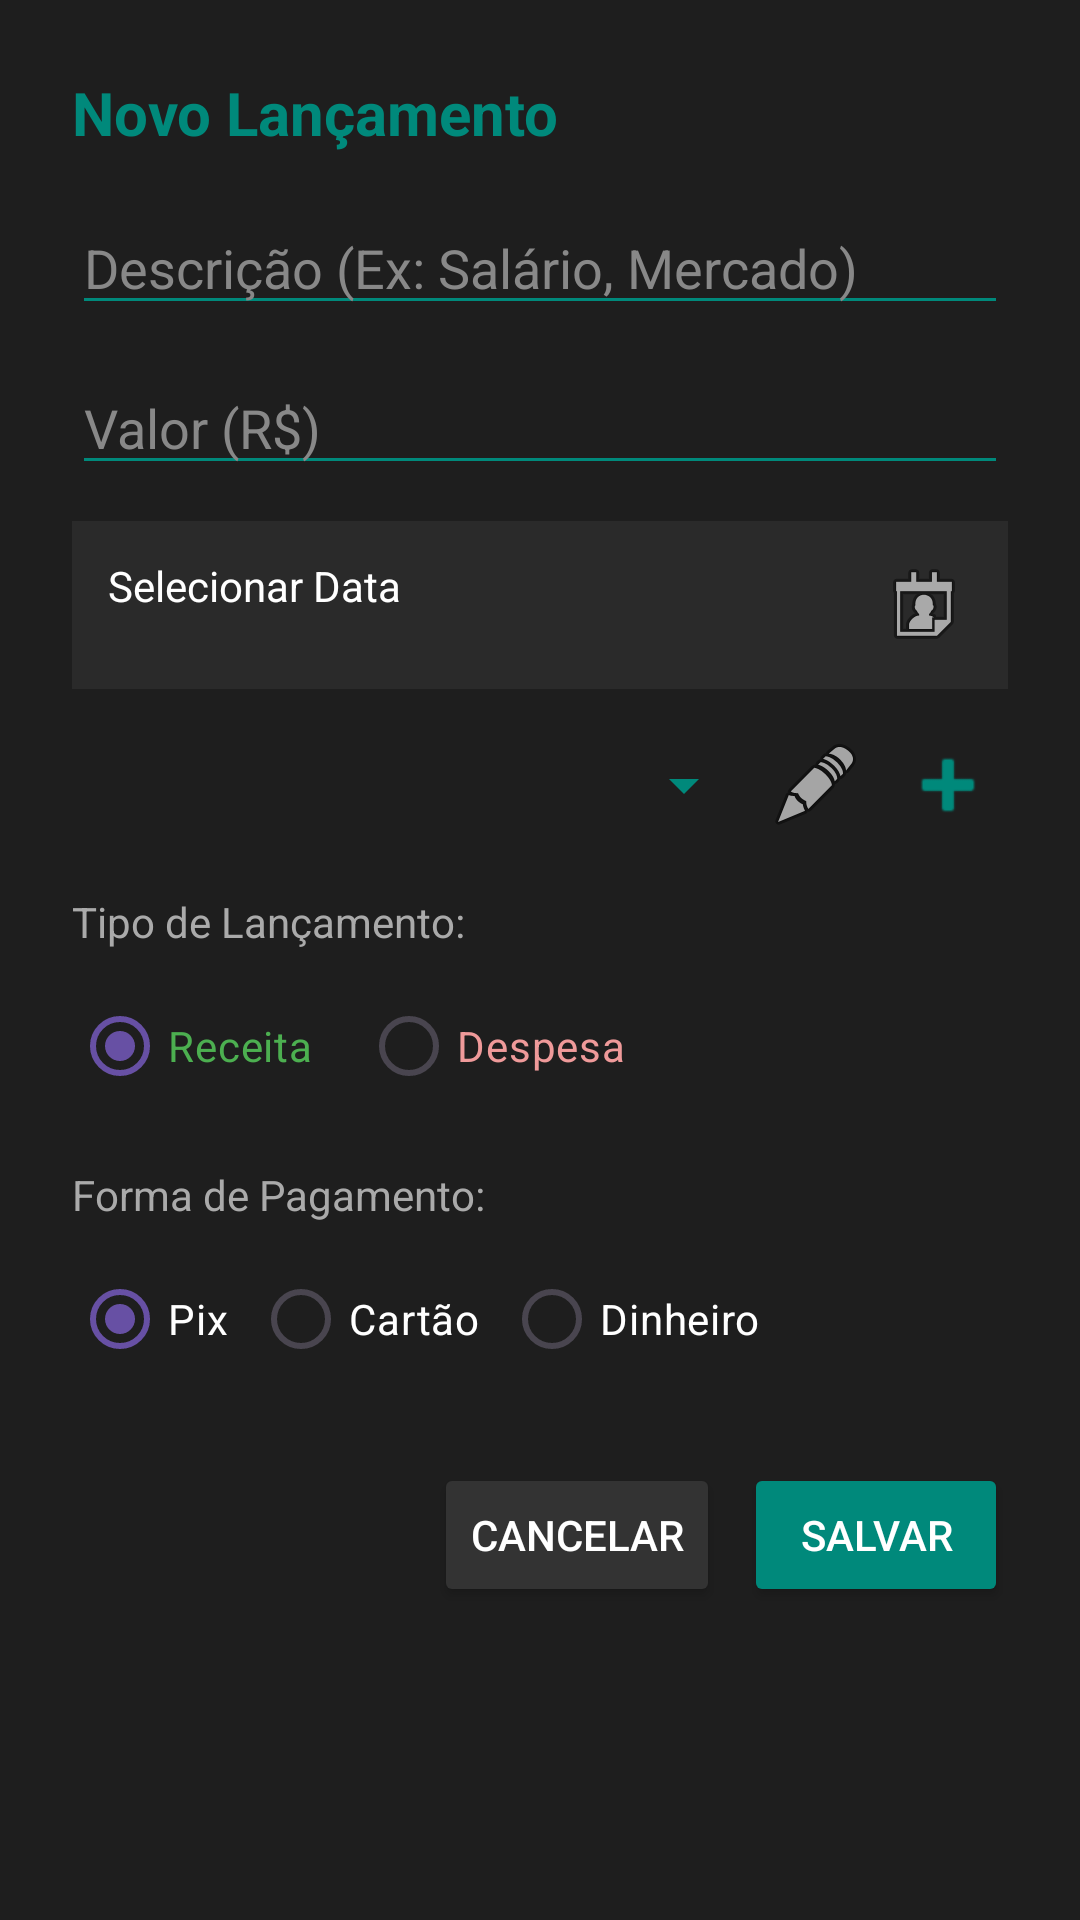

Icon bounding boxes for this 1080 × 1920 phone screenshot, format (left=x1, top=y1, right=x2, bottom=y2):
add: (left=921, top=758, right=975, bottom=812)
edit: (left=778, top=747, right=853, bottom=822)
